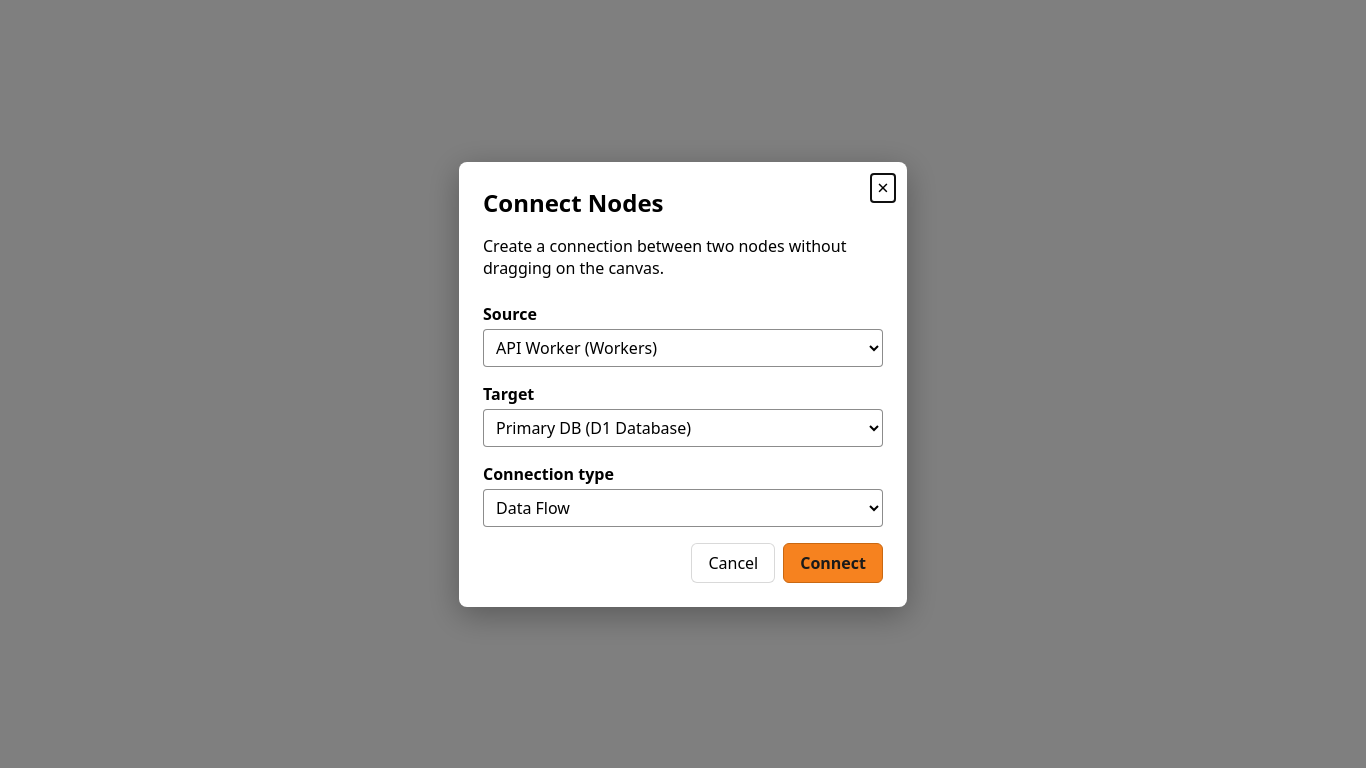
ConnectNodesModal › shows a validation message and disables Connect for a self-connection
This screenshot has width=1366, height=768.
Select "API Worker (Workers)" in the dropdown labelled "Target" at (683, 428), box [483,408,883,446]
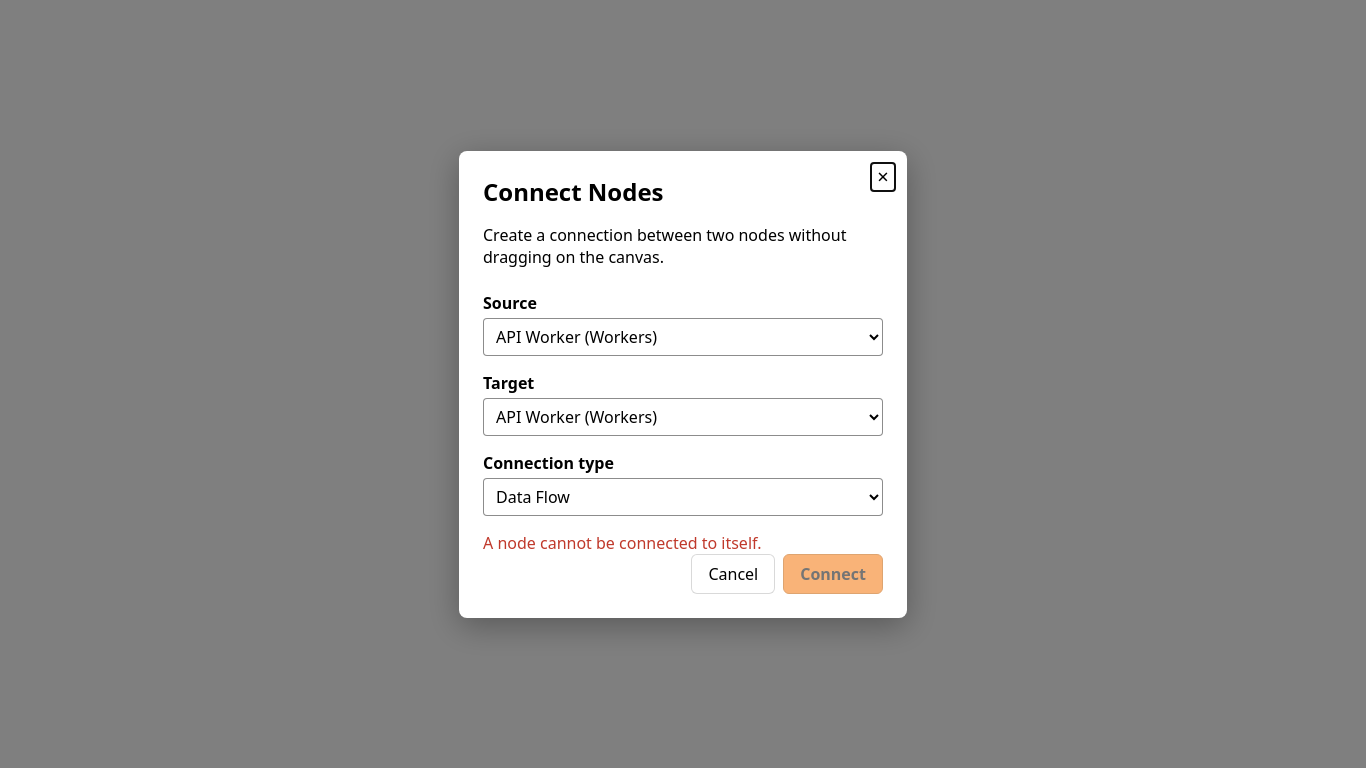
Expected: the message reads "A node cannot be connected to itself.", [483,532,762,554]
Expected: the button "Connect" is disabled, [783,554,883,594]
